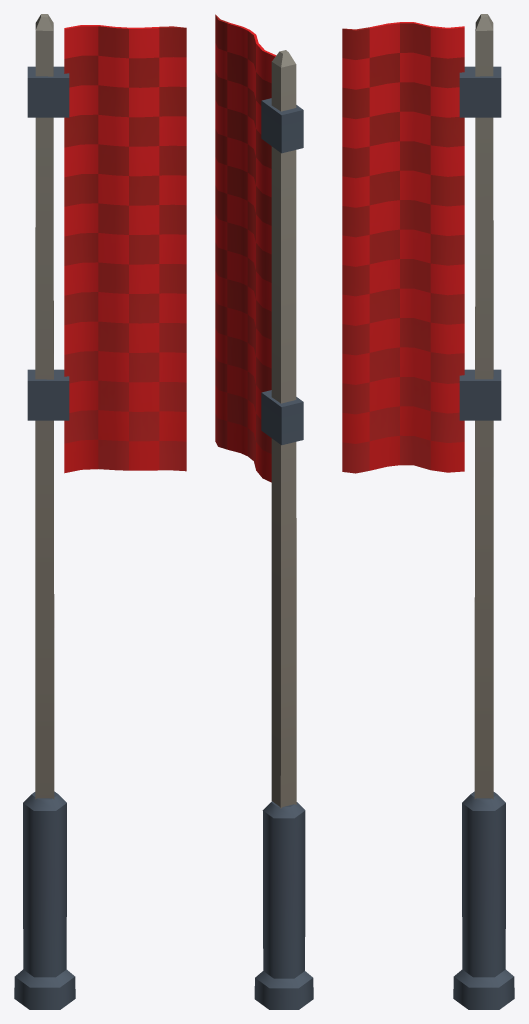
The model's file is FlagRace_A.fbx.
The picture shows the model from 3 angles, left to right: view 1: azimuth 90°, elevation 25°; view 2: azimuth 210°, elevation 25°; view 3: azimuth 270°, elevation 25°; orthographic projection. The views are drawn at different scales.
Visible parts, largest first — view 1: FlagRace_A; view 2: FlagRace_A; view 3: FlagRace_A.
Boxes of the visible parts, x1,y1,x2,y2 form: FlagRace_A: (14,14,186,1009); FlagRace_A: (215,14,313,1009); FlagRace_A: (342,14,514,1009).
Size of the model in its own units: 62.3 by 1269 by 202.
